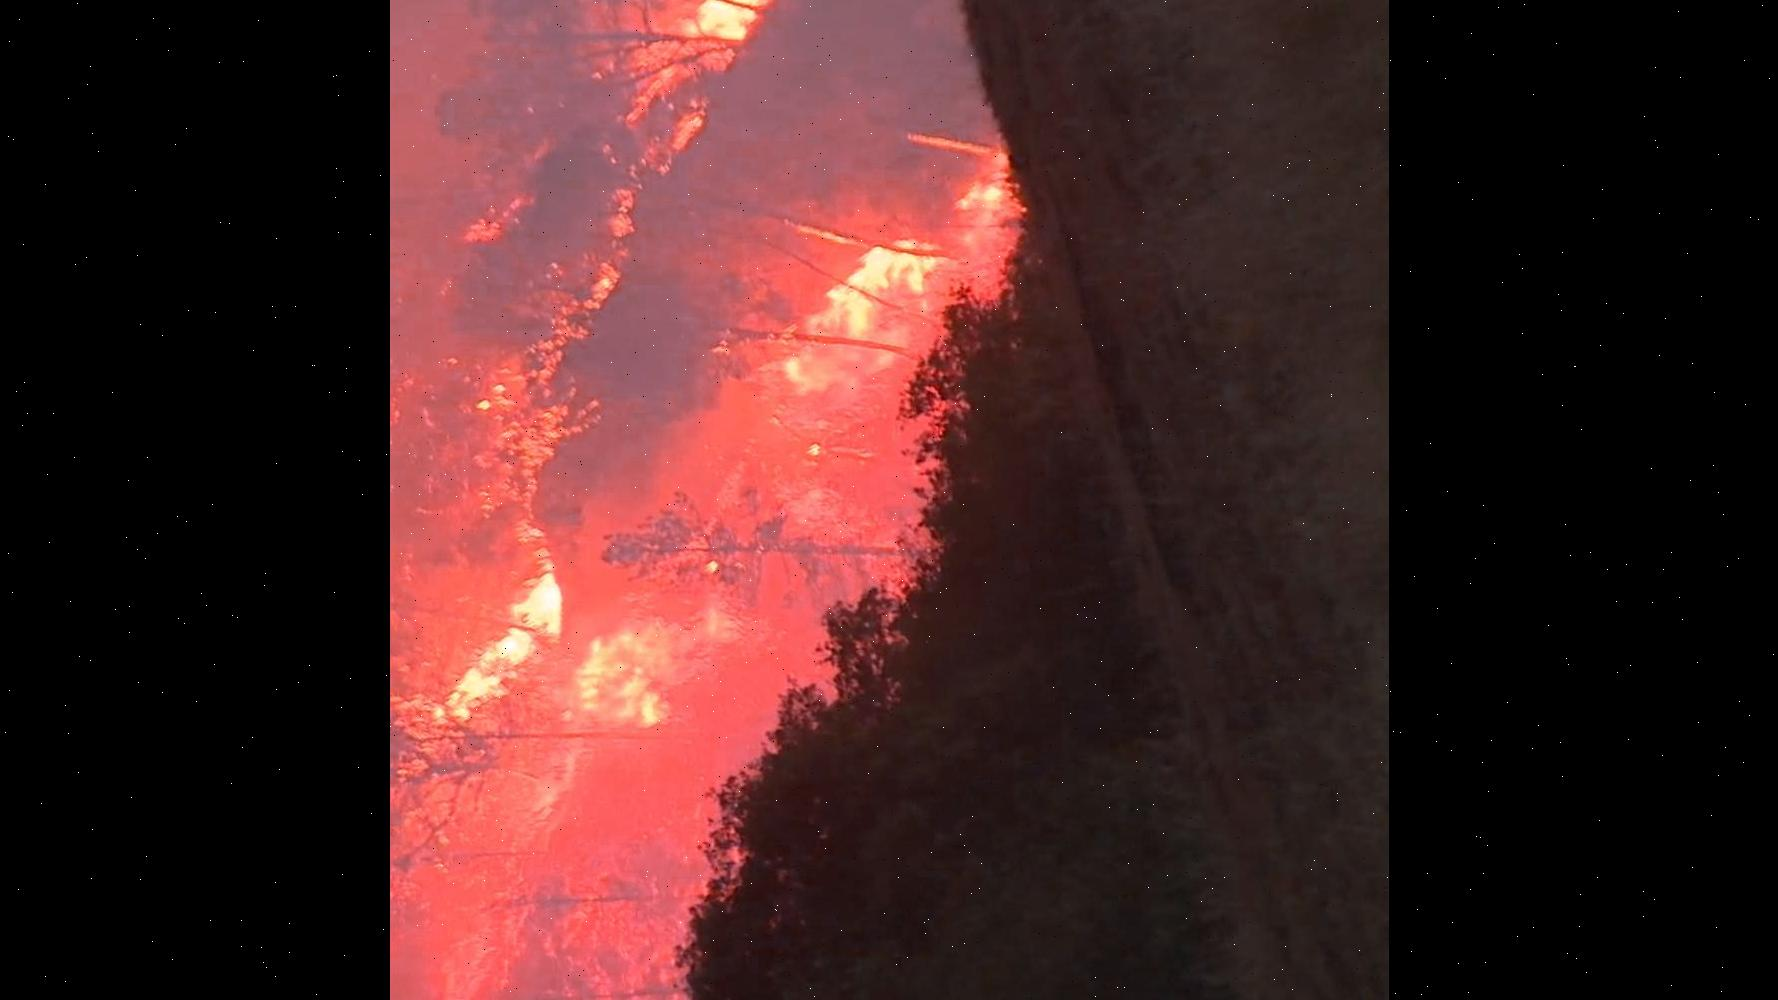fire: (390, 0, 1045, 1000)
